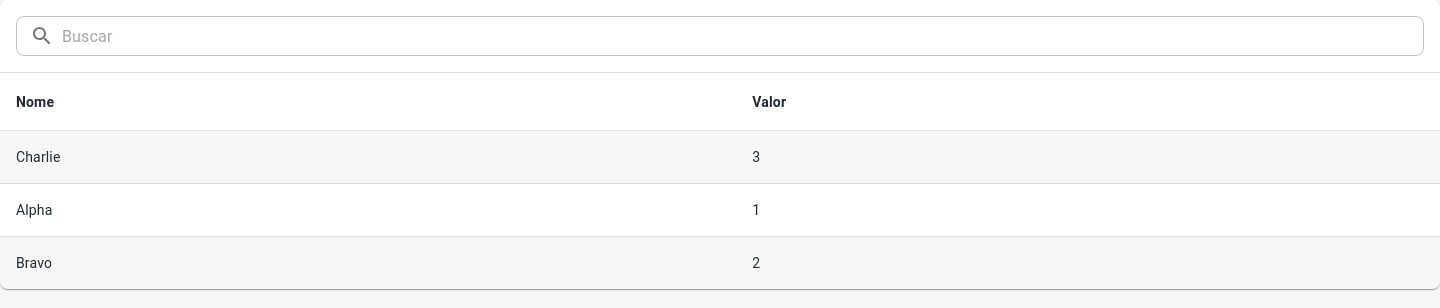
Scenario: Table › filtra as linhas pela busca (L1)
Expected: the text "Charlie" is shown, [0,131,736,184]
Expected: the text "Alpha" is shown, [0,184,736,237]
In the field: (743, 36) [62,16,1424,56], type "brav"
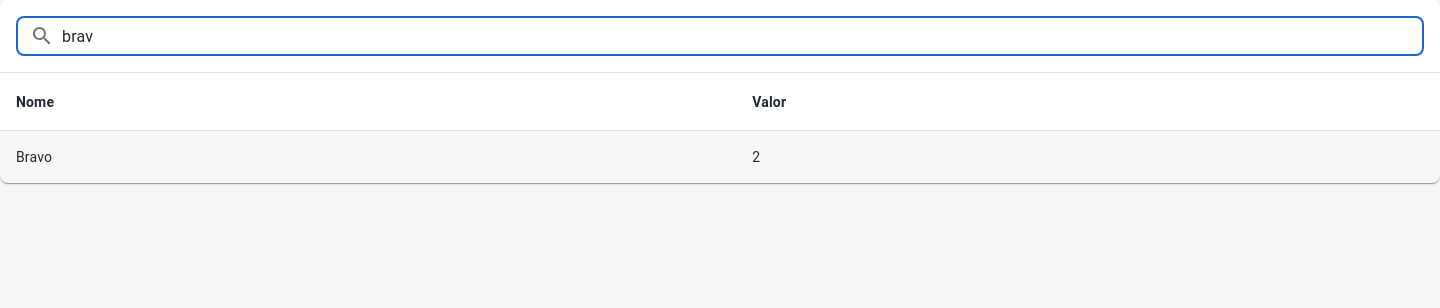
Now the text "Bravo" is shown, box [0,131,736,183]
Now the text "Charlie" is gone
Now the text "Alpha" is gone
